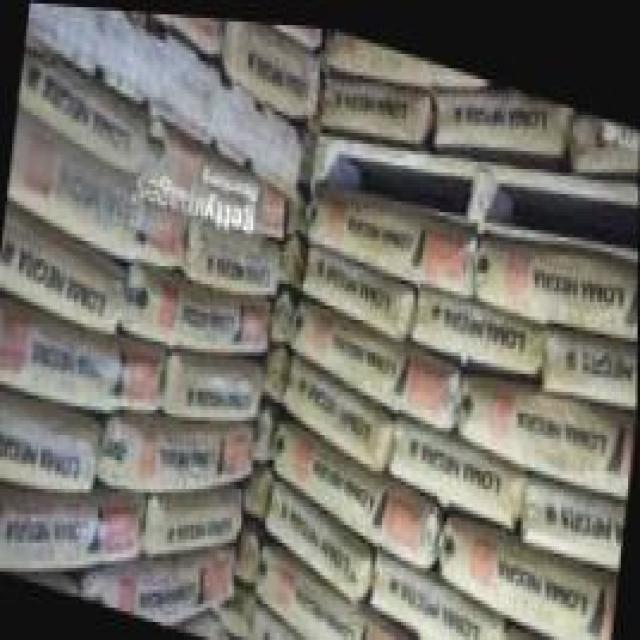gunny_bag: (271, 405, 445, 573), (8, 110, 189, 261), (435, 494, 619, 640), (455, 360, 637, 489), (289, 295, 463, 426), (0, 292, 166, 412), (303, 171, 476, 285), (18, 39, 153, 170), (260, 460, 378, 609), (473, 218, 638, 322), (251, 541, 417, 640), (0, 205, 128, 332), (386, 405, 521, 524), (159, 117, 290, 232), (127, 254, 271, 349), (367, 542, 502, 640), (282, 346, 393, 465), (411, 275, 545, 372), (296, 236, 414, 342), (104, 409, 259, 483), (518, 459, 626, 563), (0, 490, 145, 561), (0, 394, 98, 494), (85, 551, 234, 612), (229, 17, 319, 114), (537, 315, 638, 401), (436, 80, 567, 142), (190, 207, 284, 292), (322, 62, 431, 130), (169, 339, 266, 410), (151, 487, 245, 552), (501, 610, 571, 640)
